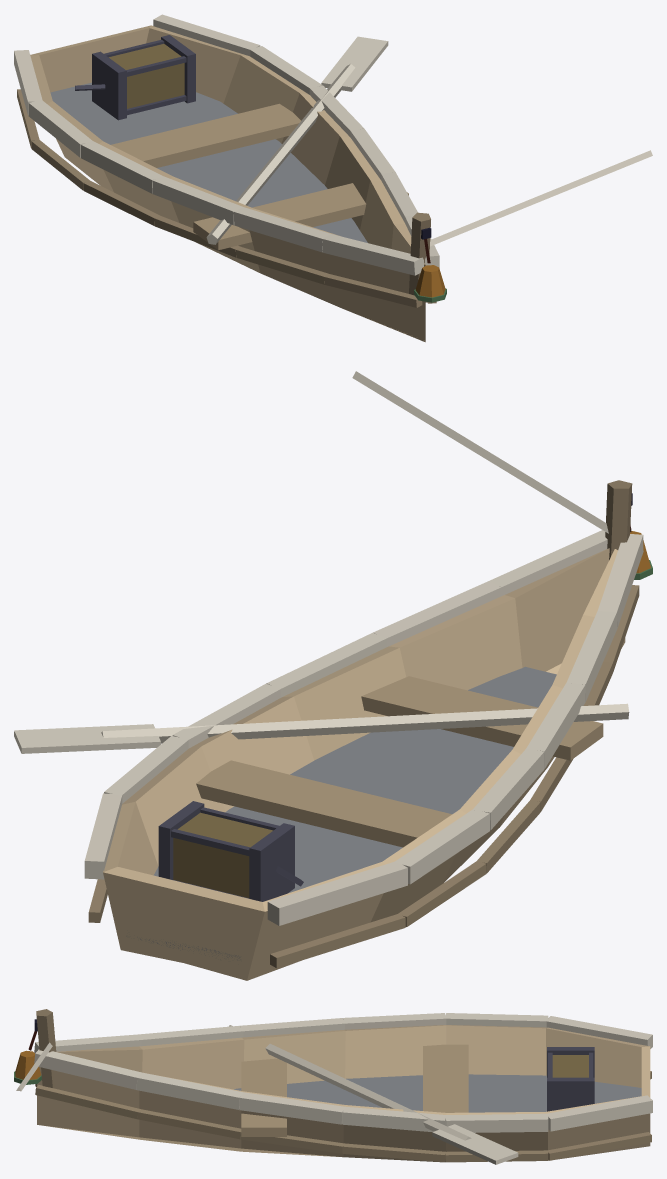
Rendered from keeper_skiff_bell.glb.
3 renders of one model, top to bottom at view 1: azimuth 30°, elevation 25°; view 2: azimuth 150°, elevation 25°; view 3: azimuth 270°, elevation 25°, orthographic. The views are drawn at different scales.
Visible parts, largest first — view 1: driftwood_l5, bone_d10, silverfog_d35, driftwood_d15, driftwood_d25, ink_l20, kindle_d50, driftwood_d30, ember_d35; view 2: driftwood_l5, bone_d10, silverfog_d35, driftwood_d15, driftwood_d25, ink_l20, kindle_d50, driftwood_d30; view 3: driftwood_l5, bone_d10, silverfog_d35, driftwood_d25, driftwood_d15, ink_l20, driftwood_d30, kindle_d50, ember_d35.
Boxes of the visible parts, x1,y1,x2,y2 form: driftwood_l5: (30, 25, 425, 342); bone_d10: (14, 14, 652, 275); silverfog_d35: (50, 82, 367, 242); driftwood_d15: (111, 103, 408, 250); driftwood_d25: (17, 89, 436, 307); ink_l20: (75, 35, 195, 120); kindle_d50: (109, 44, 184, 108); driftwood_d30: (409, 212, 430, 302); ember_d35: (415, 265, 445, 297); driftwood_l5: (103, 548, 625, 980); bone_d10: (14, 371, 643, 925); silverfog_d35: (126, 666, 556, 960); driftwood_d15: (196, 676, 603, 847); driftwood_d25: (88, 585, 639, 968); ink_l20: (158, 801, 303, 901); kindle_d50: (173, 812, 273, 897); driftwood_d30: (605, 480, 632, 560); driftwood_l5: (37, 1025, 650, 1162); bone_d10: (16, 1013, 652, 1164); silverfog_d35: (234, 1074, 641, 1112); driftwood_d25: (35, 1071, 651, 1162); driftwood_d15: (241, 1044, 468, 1136); ink_l20: (547, 1047, 594, 1111); driftwood_d30: (36, 1009, 56, 1088); kindle_d50: (552, 1055, 588, 1077); ember_d35: (15, 1050, 40, 1079).
Bounding box in the file's own units: 1.57 × 0.8036 × 2.81.
